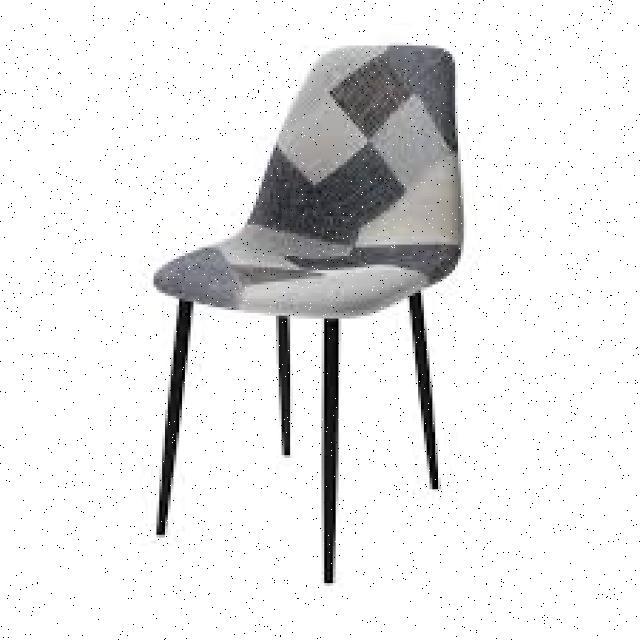bottle: (144, 40, 468, 588)
